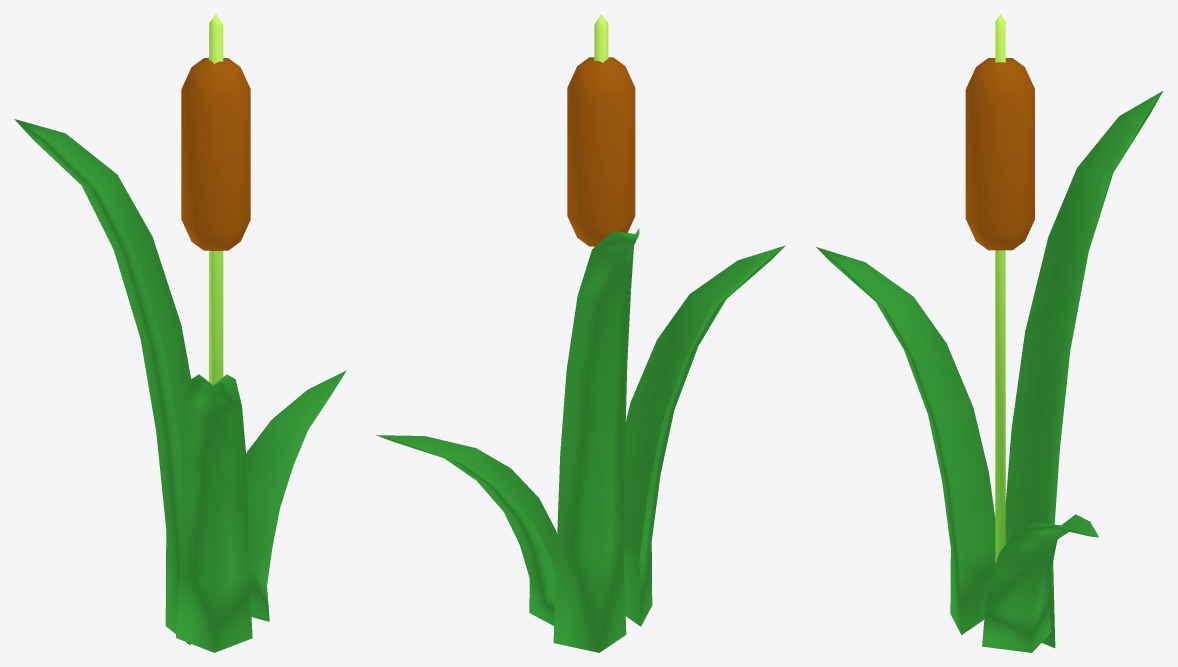
Rendered from Kattails.glb.
3 views of the same model, side by side, from view 1: azimuth 30°, elevation 25°; view 2: azimuth 150°, elevation 25°; view 3: azimuth 270°, elevation 25° (orthographic).
Visible parts, largest first — view 1: Cube.001, Cube, Cube.003, Cube.002; view 2: Cube, Cube.001, Cube.003, Cube.002; view 3: Cube, Cube.001, Cube.003, Cube.002.
Part boxes in pixels (bbox=[...]): Cube.001: bbox=[176, 374, 252, 652]; Cube: bbox=[14, 119, 191, 644]; Cube.003: bbox=[181, 14, 250, 384]; Cube.002: bbox=[246, 370, 346, 621]; Cube: bbox=[553, 228, 639, 652]; Cube.001: bbox=[623, 245, 785, 626]; Cube.003: bbox=[567, 14, 635, 246]; Cube.002: bbox=[376, 435, 557, 625]; Cube: bbox=[1005, 91, 1162, 647]; Cube.001: bbox=[816, 247, 995, 634]; Cube.003: bbox=[965, 14, 1034, 564]; Cube.002: bbox=[982, 514, 1098, 652].
Size of the model in its own units: 1.64 by 3.26 by 1.65.
